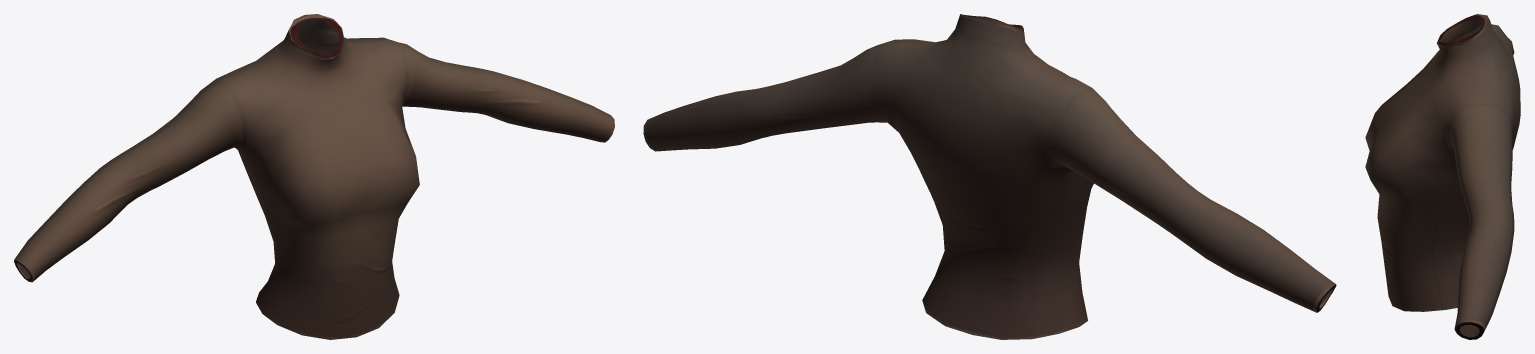
The model's file is turtleneck.fbx.
3 views of the same model, side by side, from view 1: azimuth 30°, elevation 25°; view 2: azimuth 150°, elevation 25°; view 3: azimuth 270°, elevation 25° (orthographic). The views are drawn at different scales.
Visible parts, largest first — view 1: turtleneck; view 2: turtleneck; view 3: turtleneck.
Boxes of the visible parts, x1,y1,x2,y2 form: turtleneck: (14,14,614,339); turtleneck: (643,14,1336,339); turtleneck: (1365,14,1520,339).
Bounding box in the file's own units: 117 × 53.48 × 27.26.
